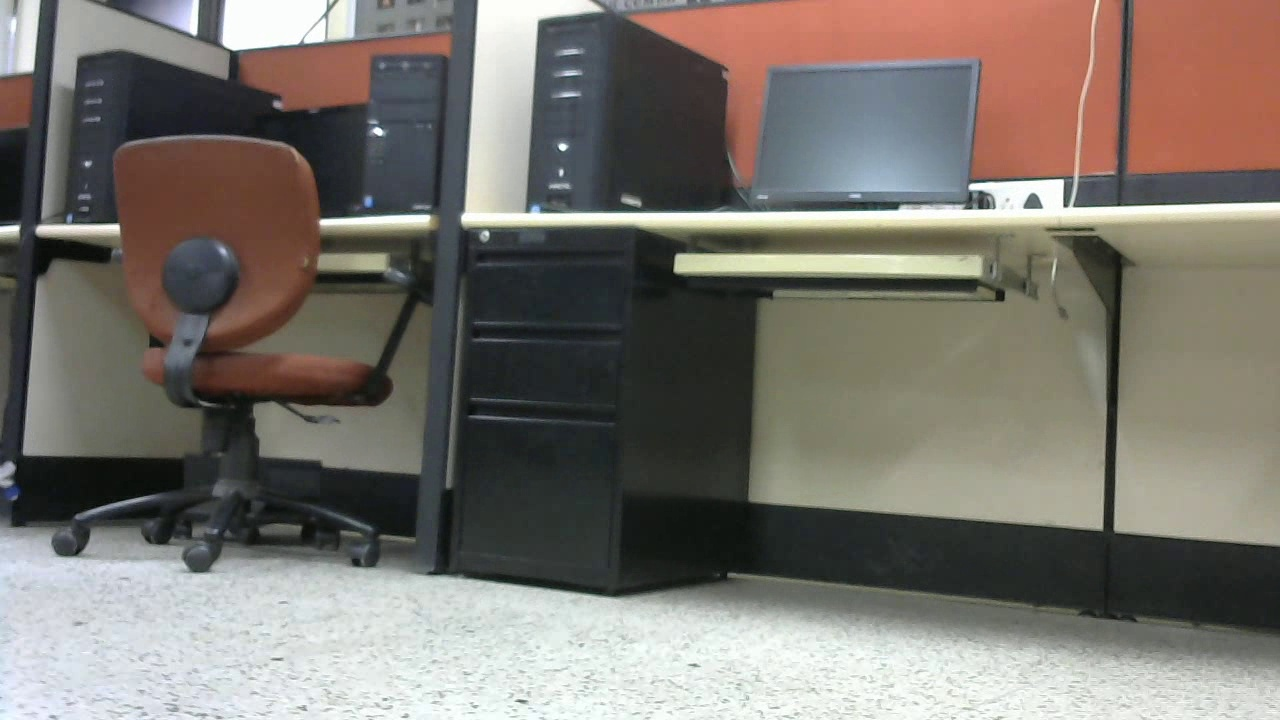chair: (51, 132, 430, 569)
